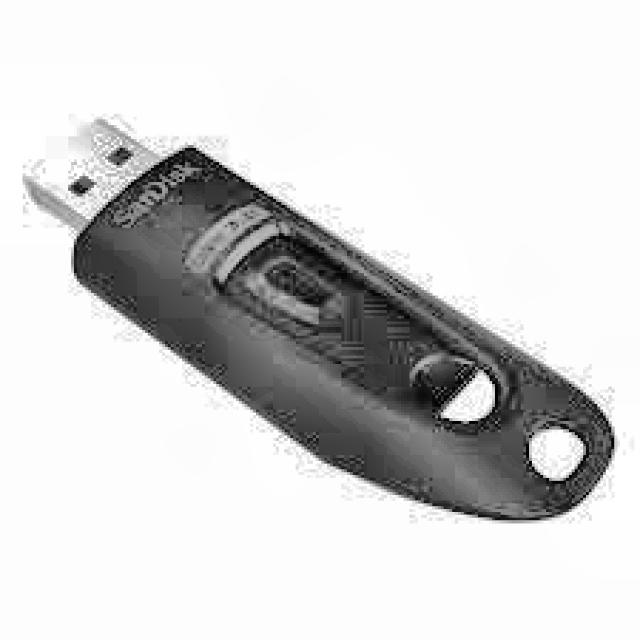Mug: (13, 82, 640, 552)
